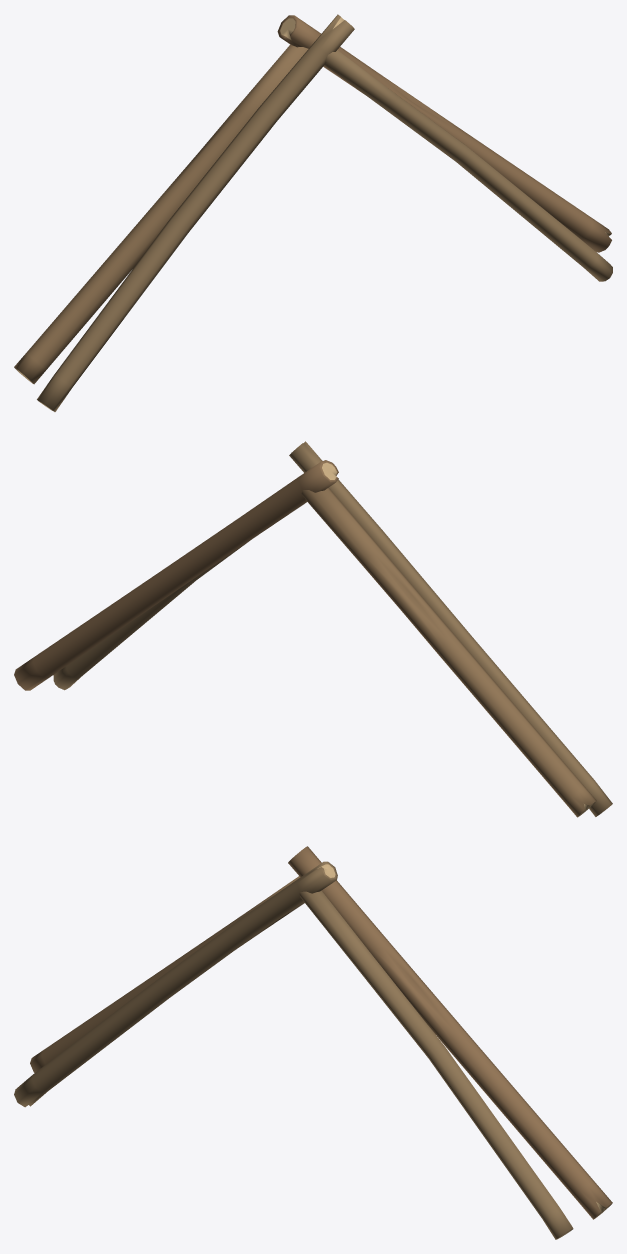
File: rpgpp_av_roof_01_9x4x3_end_01.gltf
3 renders of one model, top to bottom at view 1: azimuth 30°, elevation 25°; view 2: azimuth 150°, elevation 25°; view 3: azimuth 330°, elevation 25°, orthographic. The views are drawn at different scales.
Parts seen in each view (by area): view 1: rpgpp_av_roof_01_9x4x3_end_01; view 2: rpgpp_av_roof_01_9x4x3_end_01; view 3: rpgpp_av_roof_01_9x4x3_end_01.
Part boxes in pixels (x1,y1,x2,y2): rpgpp_av_roof_01_9x4x3_end_01: [14, 14, 612, 411]; rpgpp_av_roof_01_9x4x3_end_01: [14, 441, 612, 817]; rpgpp_av_roof_01_9x4x3_end_01: [14, 846, 612, 1239].
Bounding box in the file's own units: 0.1077 × 0.0555 × 0.0106.
Materials: 1 (1 with a texture image).
